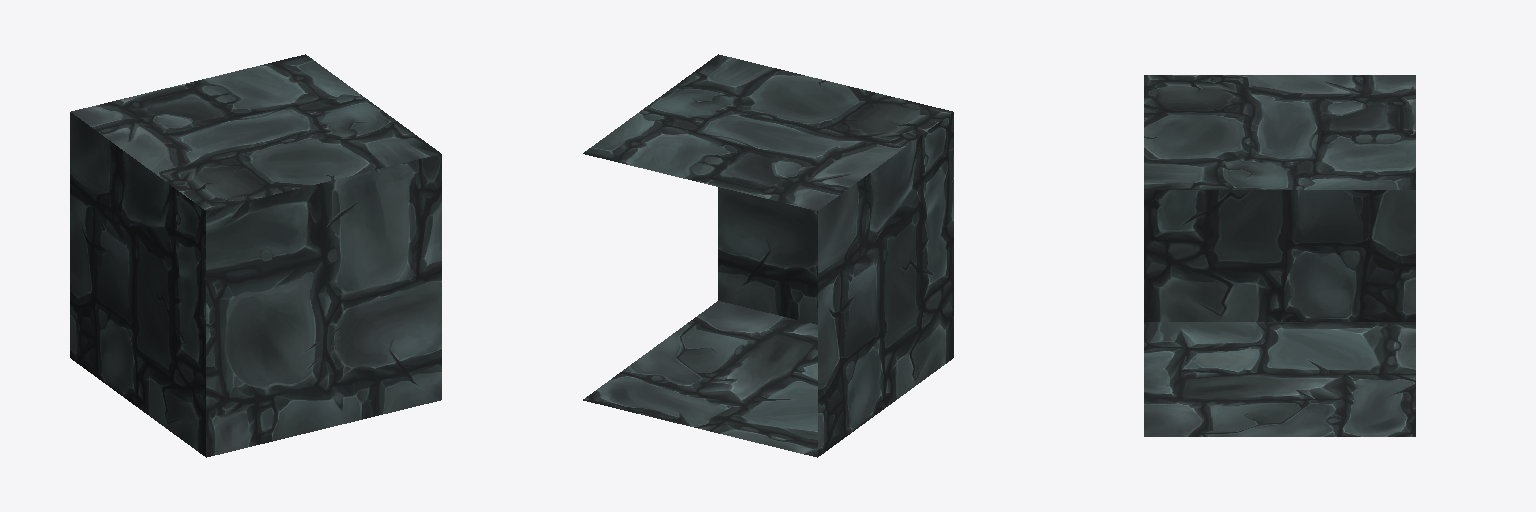
3 renders of one model, left to right at view 1: azimuth 30°, elevation 25°; view 2: azimuth 150°, elevation 25°; view 3: azimuth 270°, elevation 25°, orthographic.
Parts seen in each view (by area): view 1: Cube; view 2: Cube; view 3: Cube.
Part boxes in pixels (x1,y1,x2,y2): Cube: (70, 54, 441, 457); Cube: (583, 54, 953, 457); Cube: (1144, 75, 1415, 436).
Size of the model in its own units: 20 by 20 by 20.
Materials: 1 (1 with a texture image).